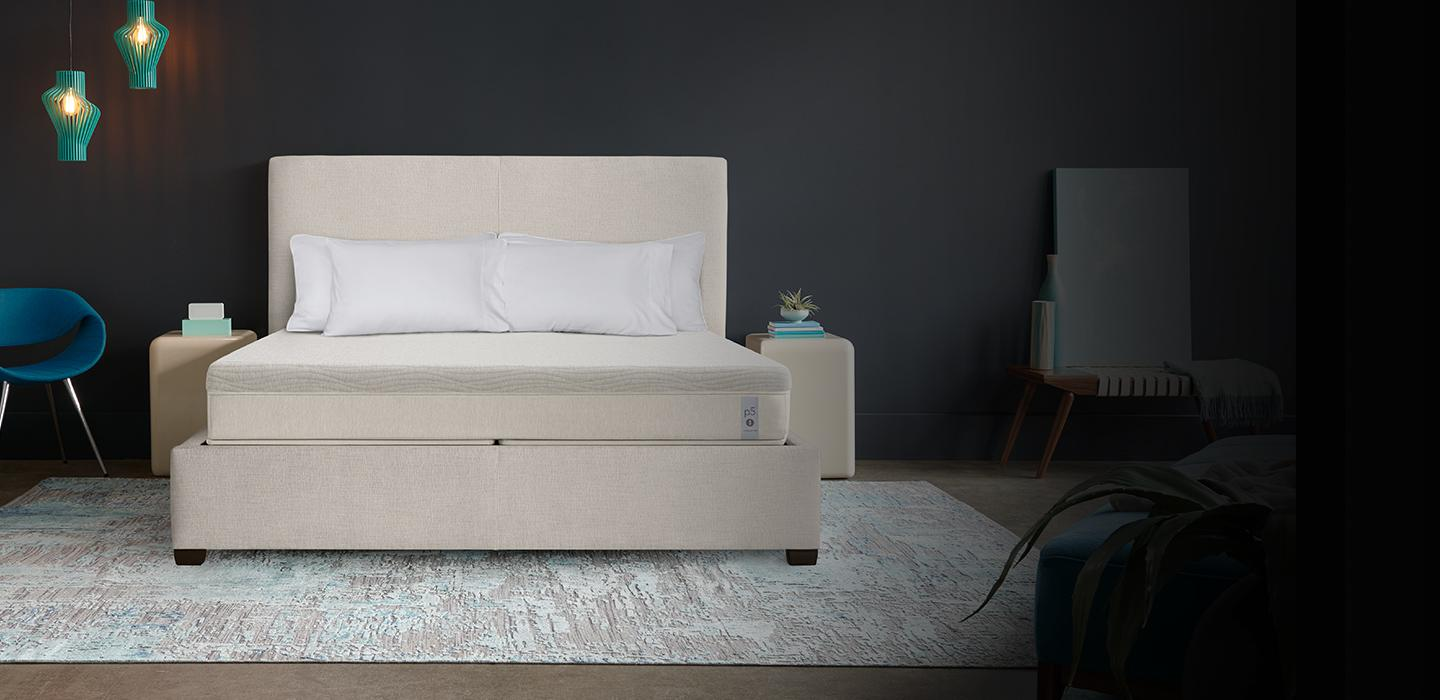bed: (150, 137, 880, 576)
